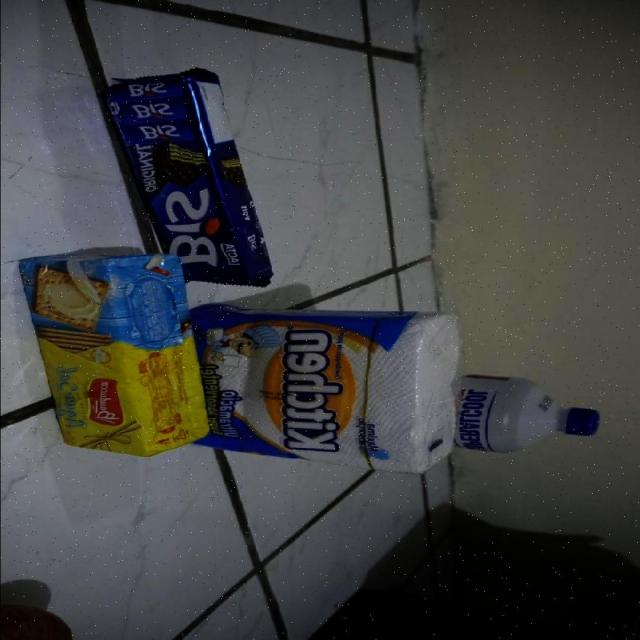AlcoholBottle: (462, 372, 604, 459)
Apple: (6, 602, 78, 638)
Cracker: (22, 250, 214, 454)
Napkin: (217, 302, 455, 474)
